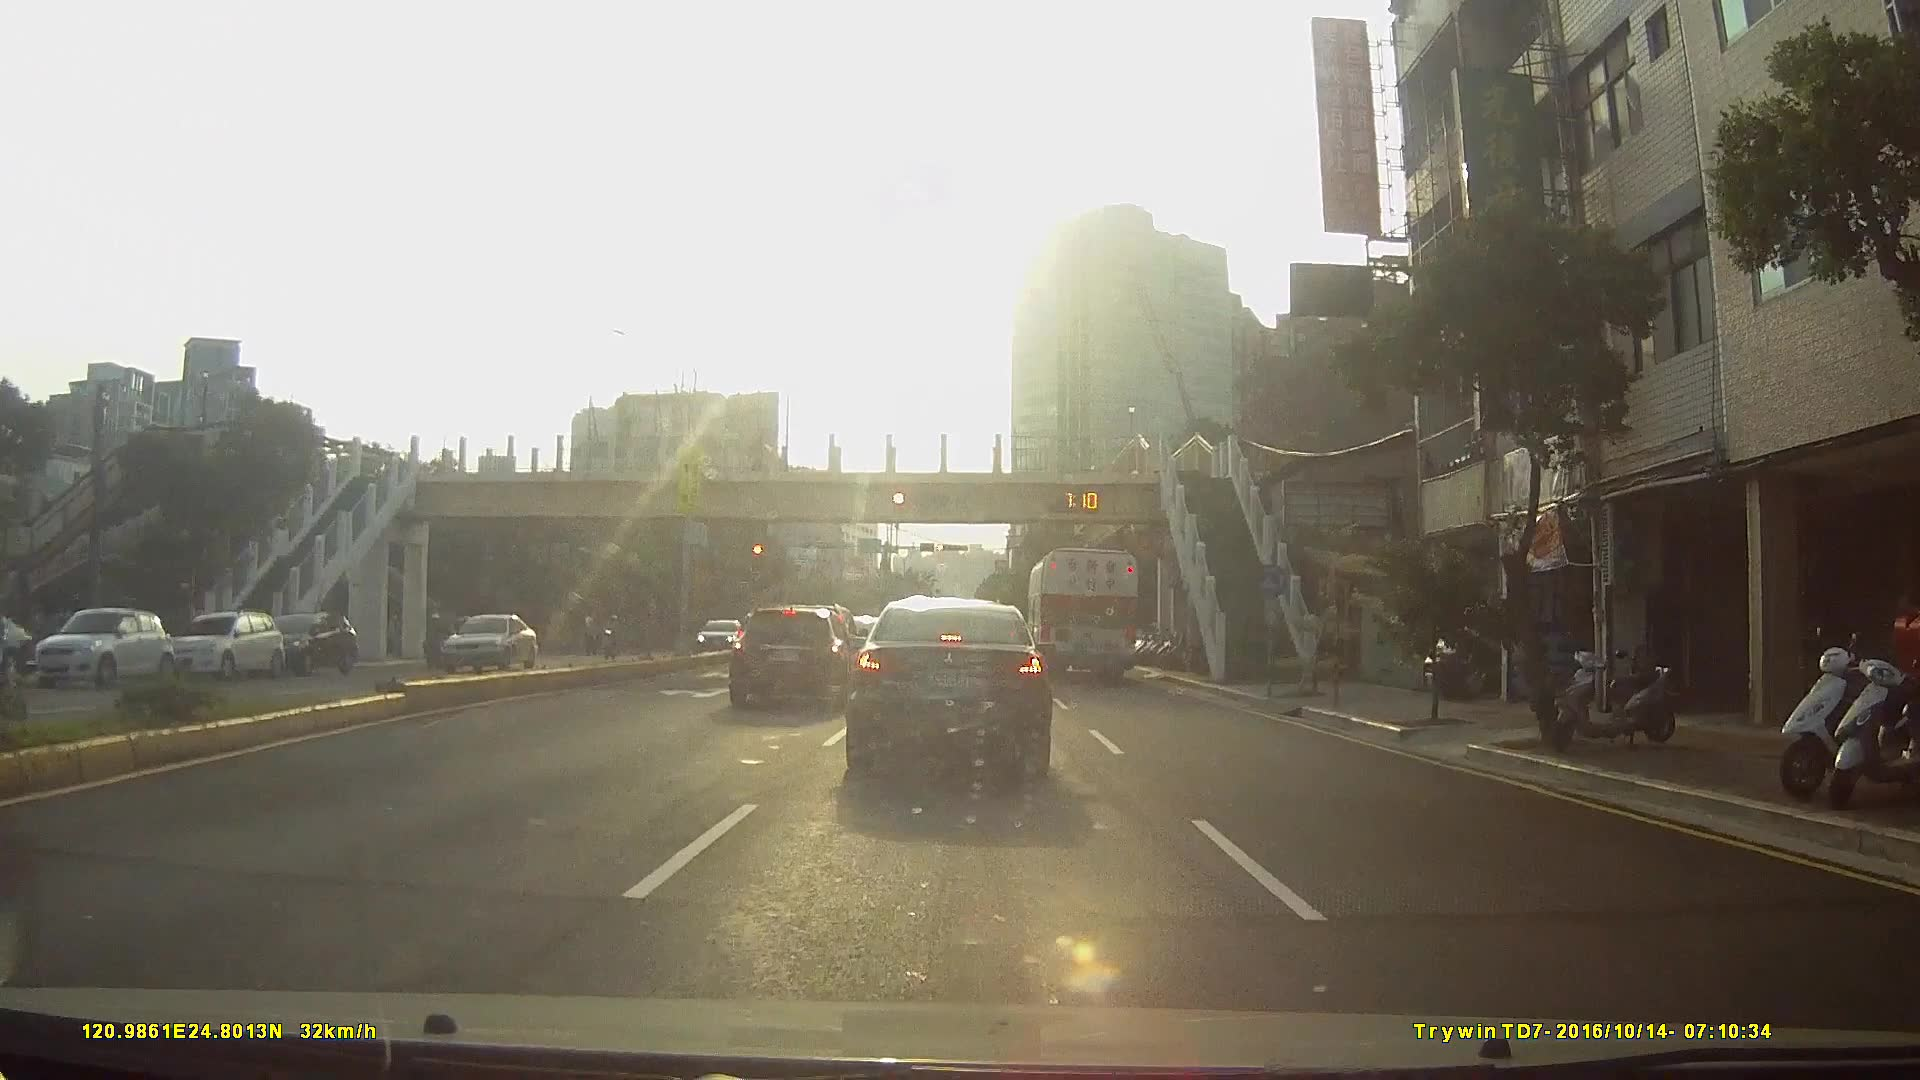vehicle: (843, 595, 1058, 779), (1027, 545, 1142, 683), (724, 599, 858, 707), (28, 607, 169, 687), (158, 607, 281, 676), (427, 608, 531, 671), (261, 611, 356, 673), (690, 618, 738, 654)
